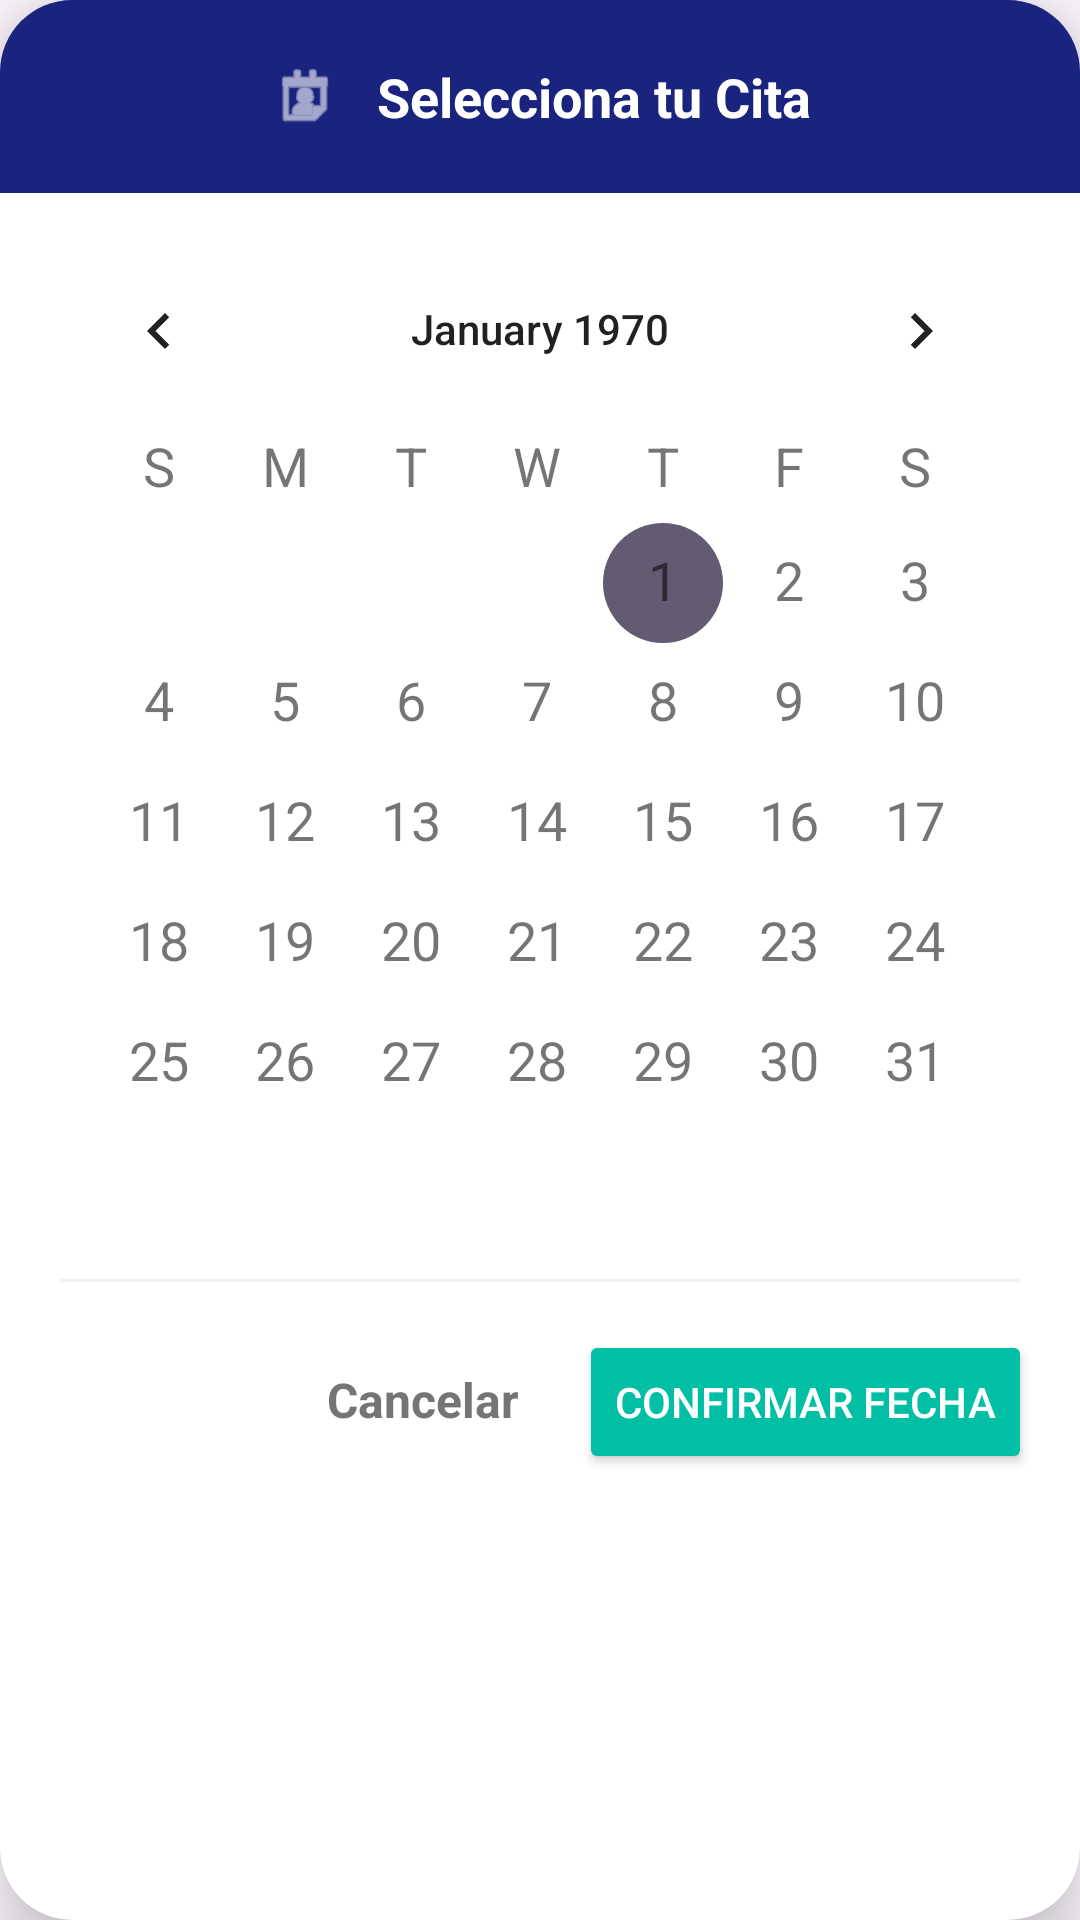

Screen size 1080w x 1920h. Icon name, then its box in pixels as bbox(x1, y1, x2, y2):
calendar: bbox(282, 69, 328, 122)
